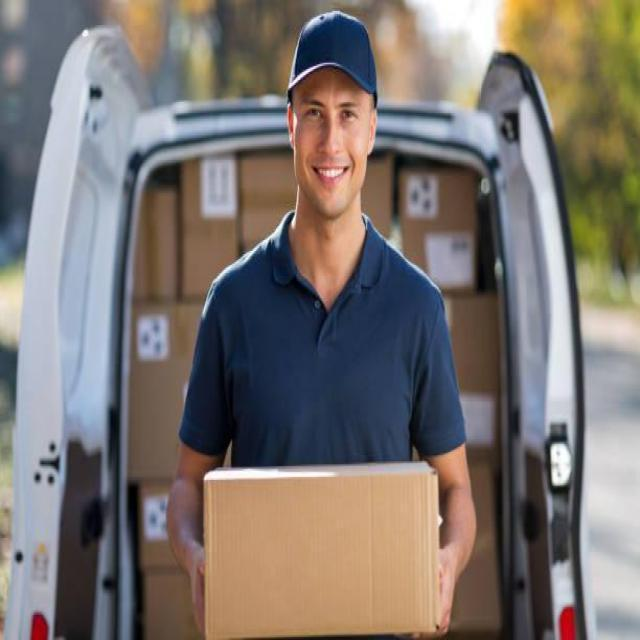box: (196, 453, 448, 640)
